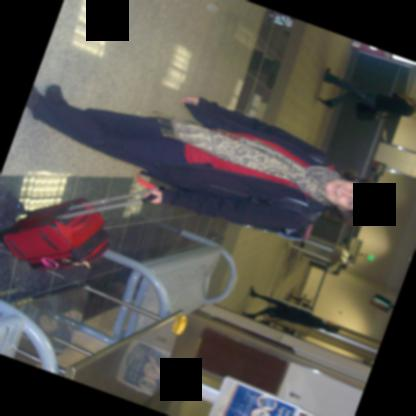backpack: (208, 152, 329, 240)
handbag: (355, 102, 402, 121)
suitcase: (0, 198, 110, 270), (256, 318, 285, 326)
